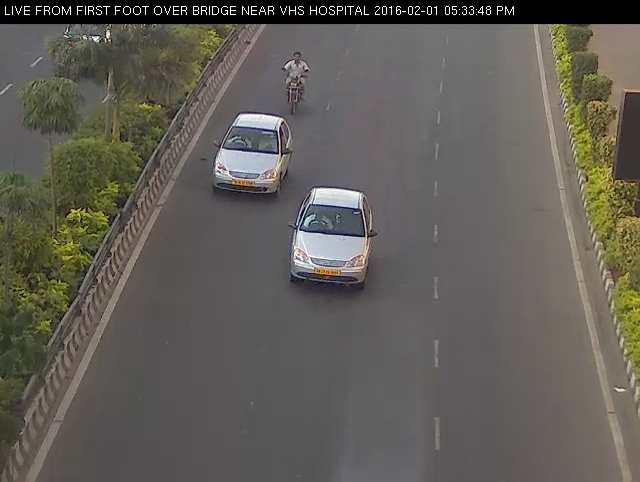Car: (283, 180, 381, 300), (206, 109, 297, 207)
Person: (272, 43, 317, 120)
